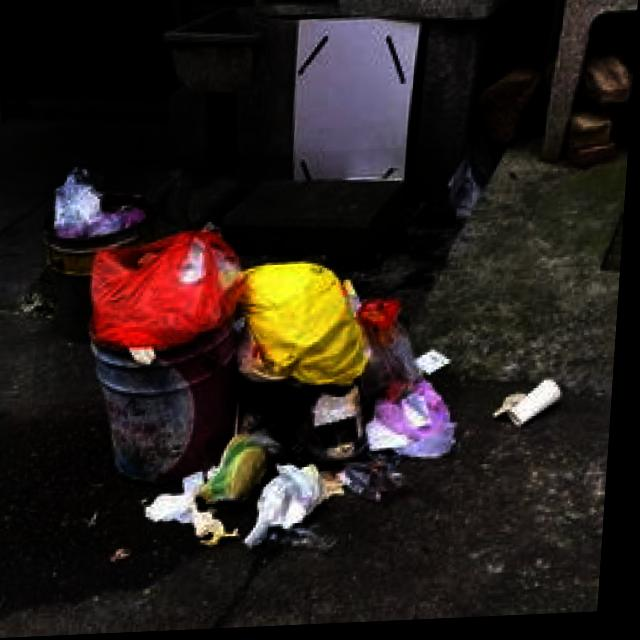garbage: (30, 149, 478, 559)
